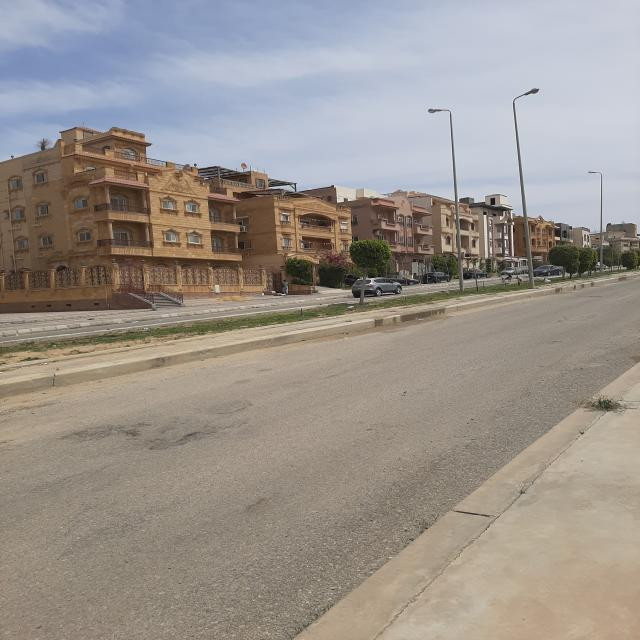Street Light: (427, 108, 466, 292), (512, 88, 540, 289), (587, 171, 604, 273)
